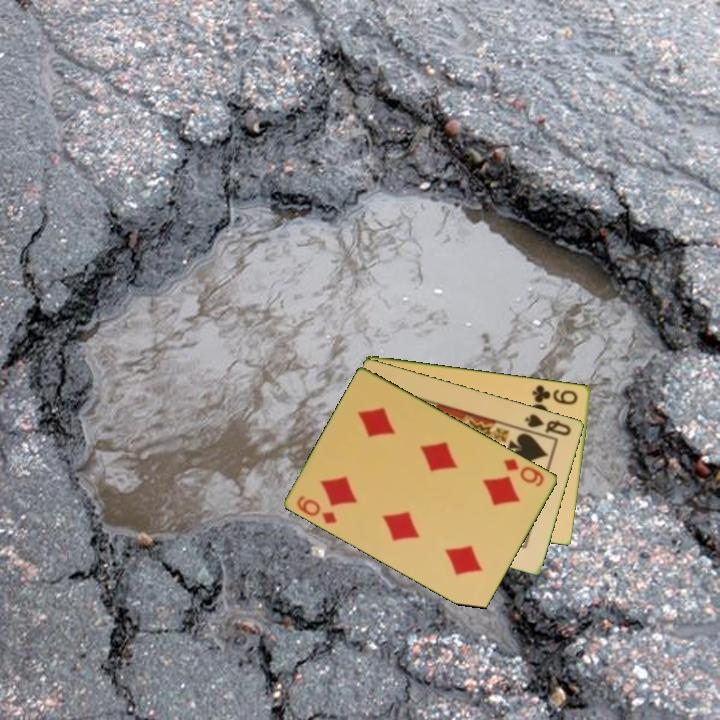6d: (293, 492, 341, 527), (501, 454, 547, 490)
9c: (529, 381, 581, 407)
Qs: (522, 410, 574, 438)
